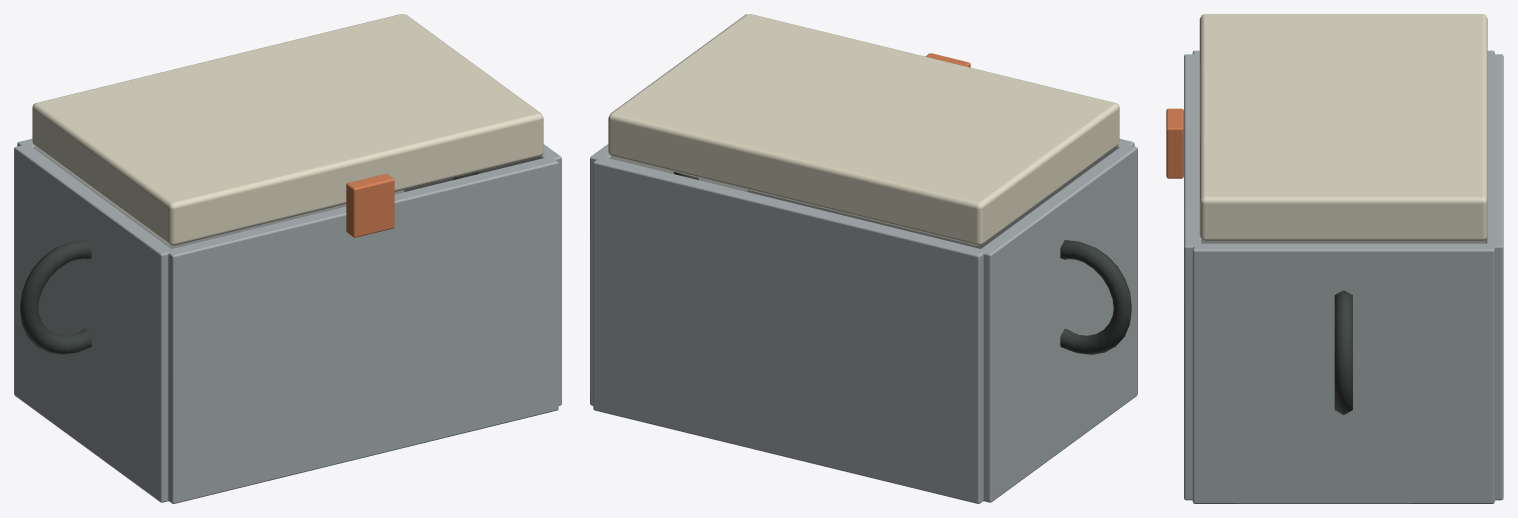
The model's file is flooded-and-coastal-survival-insulated-catch-box-a0df7139__20079.glb.
The picture shows the model from 3 angles, left to right: view 1: azimuth 30°, elevation 25°; view 2: azimuth 150°, elevation 25°; view 3: azimuth 270°, elevation 25°; orthographic projection. The views are drawn at different scales.
Parts seen in each view (by area): view 1: insulated-catch-box, insulated-lid/ivory; view 2: insulated-catch-box, insulated-lid/ivory; view 3: insulated-catch-box, insulated-lid/ivory.
Boxes of the visible parts, left/top/right/bottom form: insulated-catch-box: left=14, top=139, right=561, bottom=503; insulated-lid/ivory: left=32, top=14, right=543, bottom=245; insulated-catch-box: left=590, top=53, right=1137, bottom=503; insulated-lid/ivory: left=608, top=14, right=1119, bottom=245; insulated-catch-box: left=1166, top=50, right=1503, bottom=503; insulated-lid/ivory: left=1199, top=14, right=1487, bottom=241.
Size of the model in its own units: 0.9 by 0.47 by 0.48.
